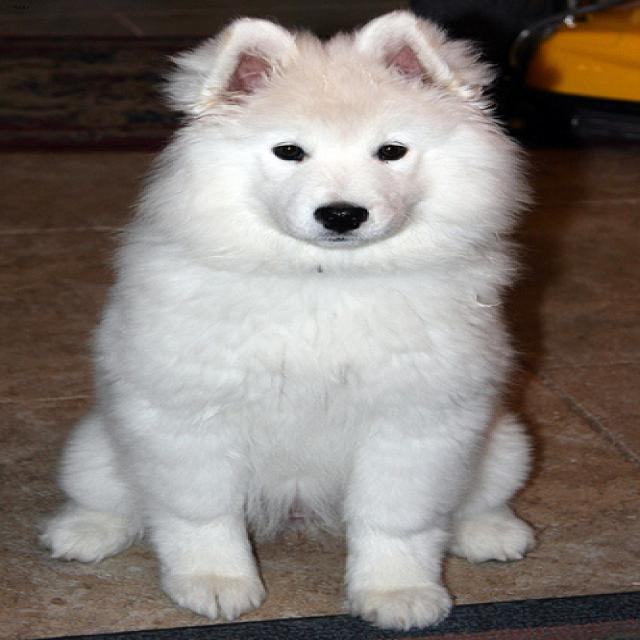dog-samoyed: (23, 1, 565, 637)
